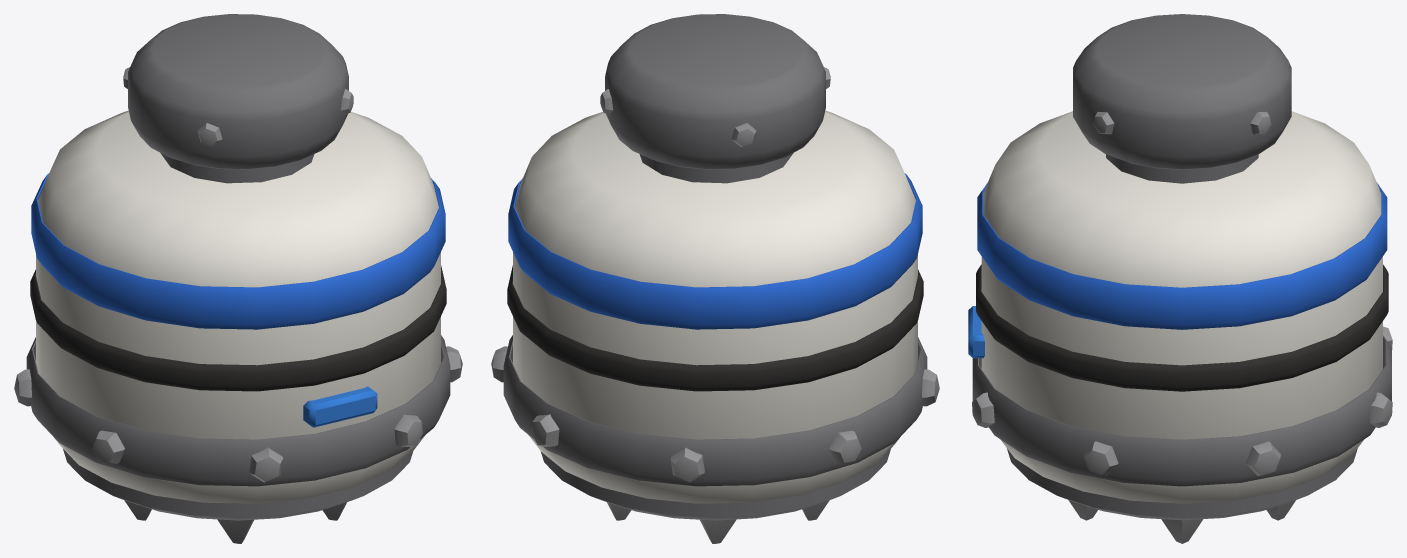
File: Kit_Hand_ProCrusher.glb
3 renders of one model, left to right at view 1: azimuth 30°, elevation 25°; view 2: azimuth 150°, elevation 25°; view 3: azimuth 270°, elevation 25°, orthographic.
Parts seen in each view (by area): view 1: Kit_Hand_ProCrusher; view 2: Kit_Hand_ProCrusher; view 3: Kit_Hand_ProCrusher.
Boxes of the visible parts, <box> form: Kit_Hand_ProCrusher: <box>14,14,462,543</box>; Kit_Hand_ProCrusher: <box>491,14,939,543</box>; Kit_Hand_ProCrusher: <box>968,14,1392,543</box>.
Size of the model in its own units: 0.184 by 0.214 by 0.1844.
